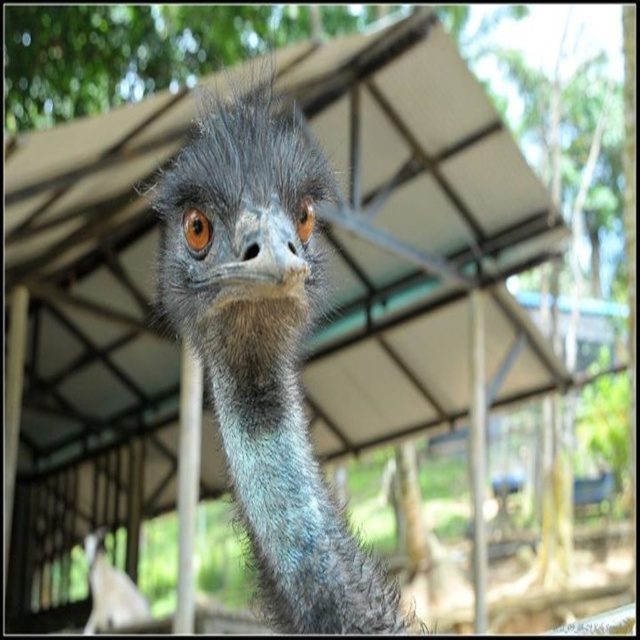Ostrich: (128, 14, 439, 635)
